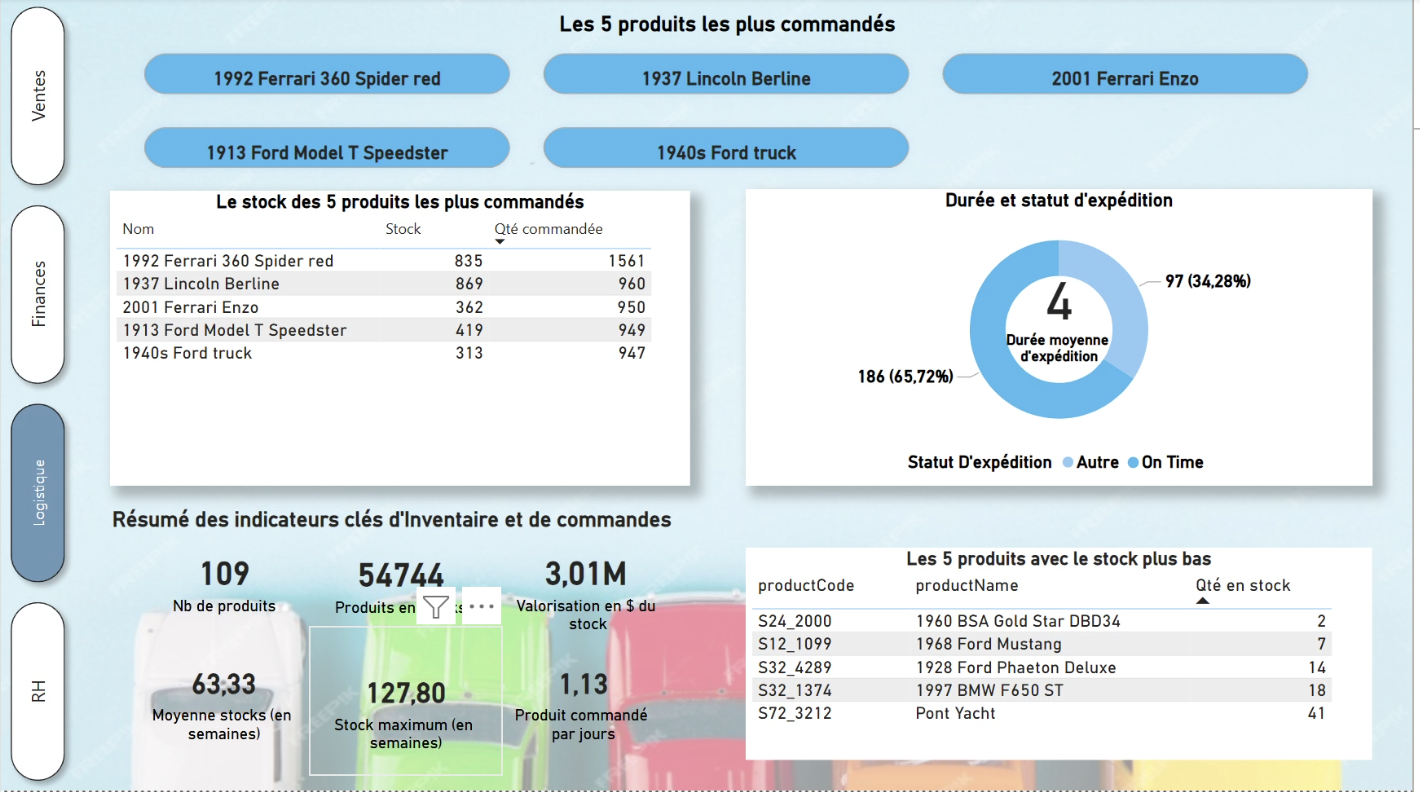

Layout of this report page (visuals, bound fields, positions):
{"tool":"powerbi","page":{"name":"Logistique","canvas":[1280,720],"ordinal":2},"visuals":[{"type":"donutChart","title":"Durée et statut d''expédition","fields":{"Y":["Sum(Logistique4.Order_Count)"],"Series":["Logistique4.Delivery_Status (groupes)"]},"box":[675.2,173.9,568.5,268.9],"z":0},{"type":"card","fields":{"Values":["Min(Logistique3.Avg_delivery_days)"]},"box":[894.4,197.3,131.5,162.2],"z":1000},{"type":"tableEx","title":"Le stock des 5 produits les plus commandés","fields":{"Values":["Logistique5.productName","Sum(Logistique5.quantityInStock)","Sum(Logistique5.totalOrdered)"]},"box":[99.4,175.4,526.1,267.4],"z":2000},{"type":"card","fields":{"Values":["Sum(Requête1.Valorisation_$_stocks)"]},"box":[454.5,463.3,150.5,133],"z":3000},{"type":"card","fields":{"Values":["Avg(Requête1.Nb_produits_commandés_par_jours)"]},"box":[454.5,553.9,146.1,152],"z":4000},{"type":"card","fields":{"Values":["Sum(Requête1.Qté_stock)"]},"box":[276.2,488.1,172.5,86.2],"z":5000},{"type":"card","fields":{"Values":["Avg(Requête1.Stock_en_semaines)"]},"box":[114,564.1,176.8,131.5],"z":6000},{"type":"card","fields":{"Values":["Max(Requête1.Stock_en_semaines)"]},"box":[279.1,570,175.4,135.9],"z":7000},{"type":"card","fields":{"Values":["Count(Requête1.Nom_produit)"]},"box":[99.4,486.7,207.5,86.2],"z":8000},{"type":"card","title":"Résumé des indicateurs clés d''Inventaire et de commandes","fields":{"Values":["Sum(Logistique7.Nb_produits_commandés_par_jours)"]},"box":[95.4,463.3,525.4,37.9],"z":9000},{"type":"advancedSlicerVisual","title":"Les 5 produits les plus commandés","fields":{"Values":["Logistique5.productName"]},"box":[113.6,13.6,1090.2,159],"z":10000},{"type":"tableEx","title":"Les 5 produits avec le stock plus bas","fields":{"Values":["Logistique1.productCode","Logistique1.productName","Sum(Logistique1.total_quantity_in_stock)"]},"box":[676,499.9,568,192.6],"z":11000},{"type":"pageNavigator","box":[0,0,67.2,720],"z":12000}]}

Visuals, with their boxes in screenshot pixels (x1, y1, x2, y2), scaled from the page's 1280x720 canvas onto the 1420x792 screenshot:
"Durée et statut d''expédition" donutChart: bbox=(749, 191, 1380, 487)
card - Min(Logistique3.Avg_delivery_days): bbox=(992, 217, 1138, 395)
"Le stock des 5 produits les plus commandés" tableEx: bbox=(110, 193, 694, 487)
card - Sum(Requête1.Valorisation_$_stocks): bbox=(504, 510, 671, 656)
card - Avg(Requête1.Nb_produits_commandés_par_jours): bbox=(504, 609, 666, 776)
card - Sum(Requête1.Qté_stock): bbox=(306, 537, 498, 632)
card - Avg(Requête1.Stock_en_semaines): bbox=(126, 621, 323, 765)
card - Max(Requête1.Stock_en_semaines): bbox=(310, 627, 504, 776)
card - Count(Requête1.Nom_produit): bbox=(110, 535, 340, 630)
"Résumé des indicateurs clés d''Inventaire et de commandes" card: bbox=(106, 510, 689, 551)
"Les 5 produits les plus commandés" advancedSlicerVisual: bbox=(126, 15, 1335, 190)
"Les 5 produits avec le stock plus bas" tableEx: bbox=(750, 550, 1380, 762)
pageNavigator: bbox=(0, 0, 75, 791)
